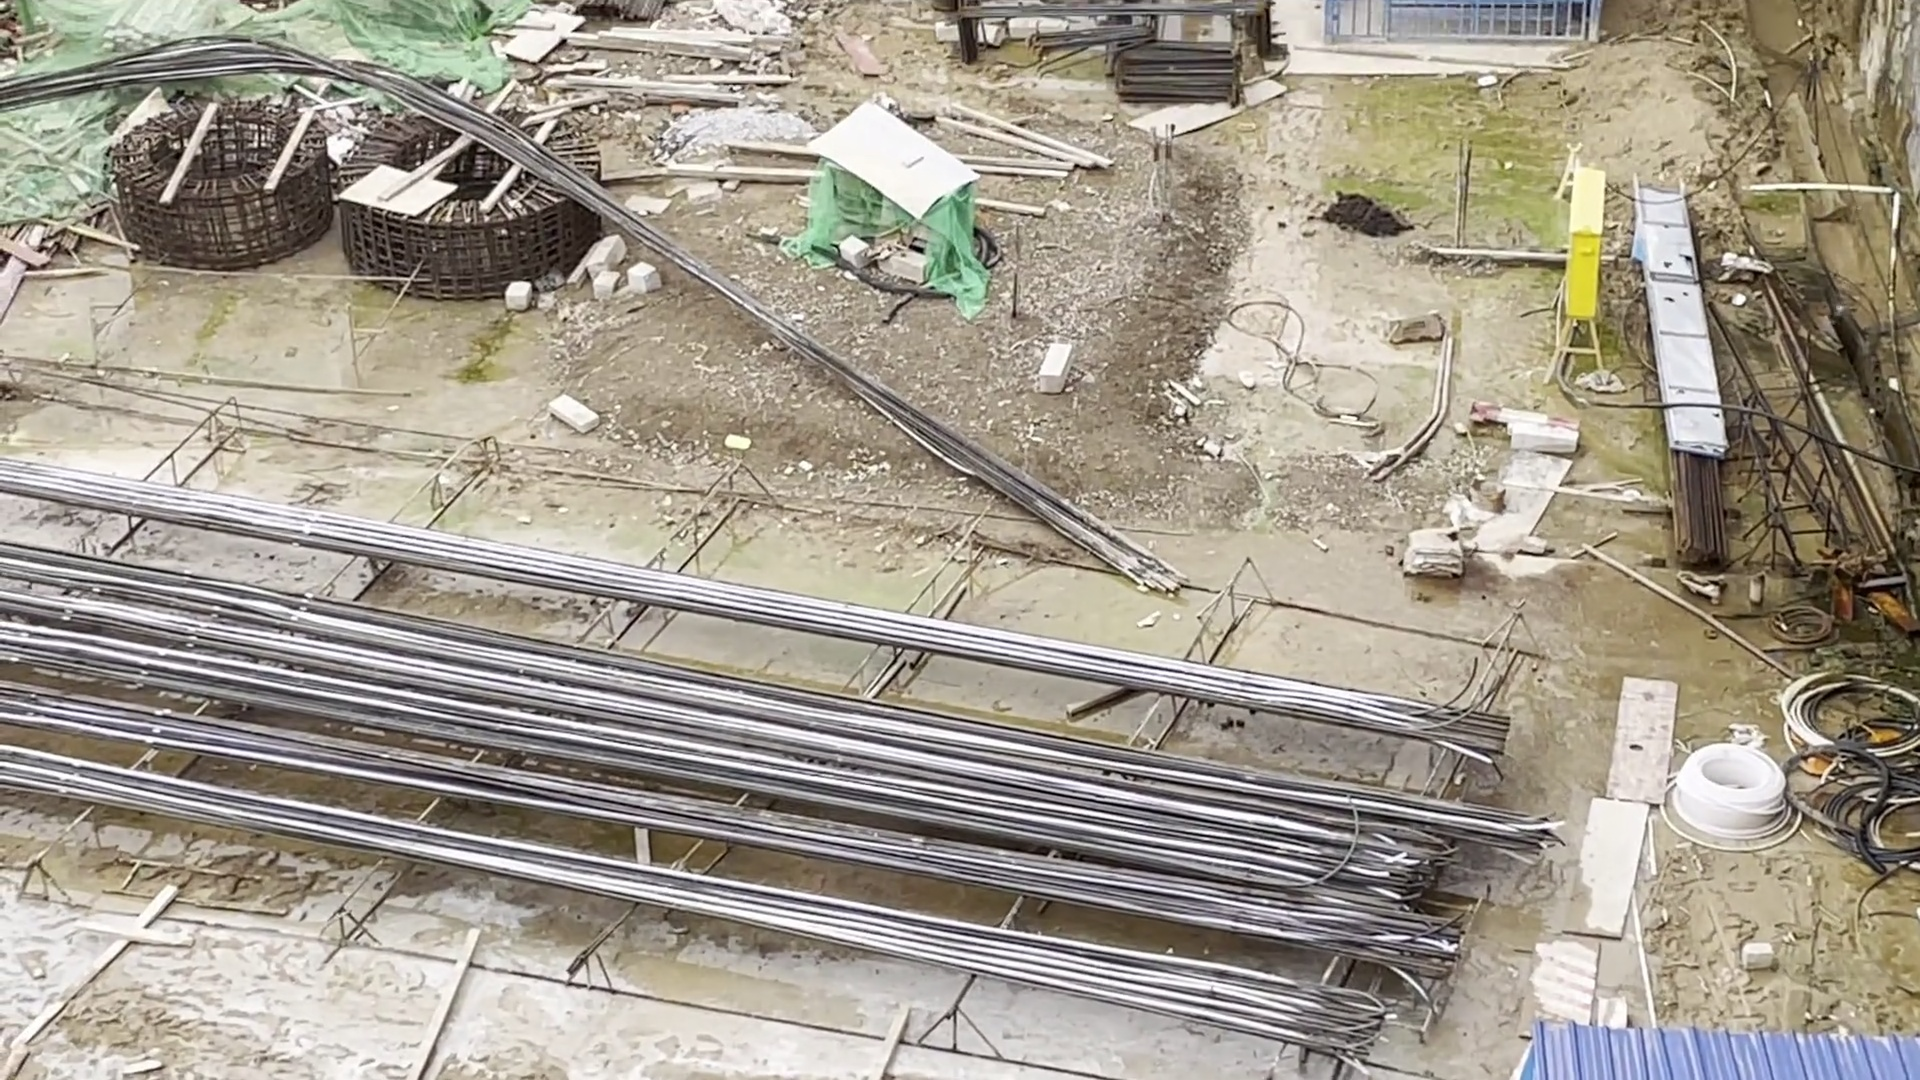ebox: (1527, 149, 1643, 382)
rebar: (1, 479, 1498, 1033)
